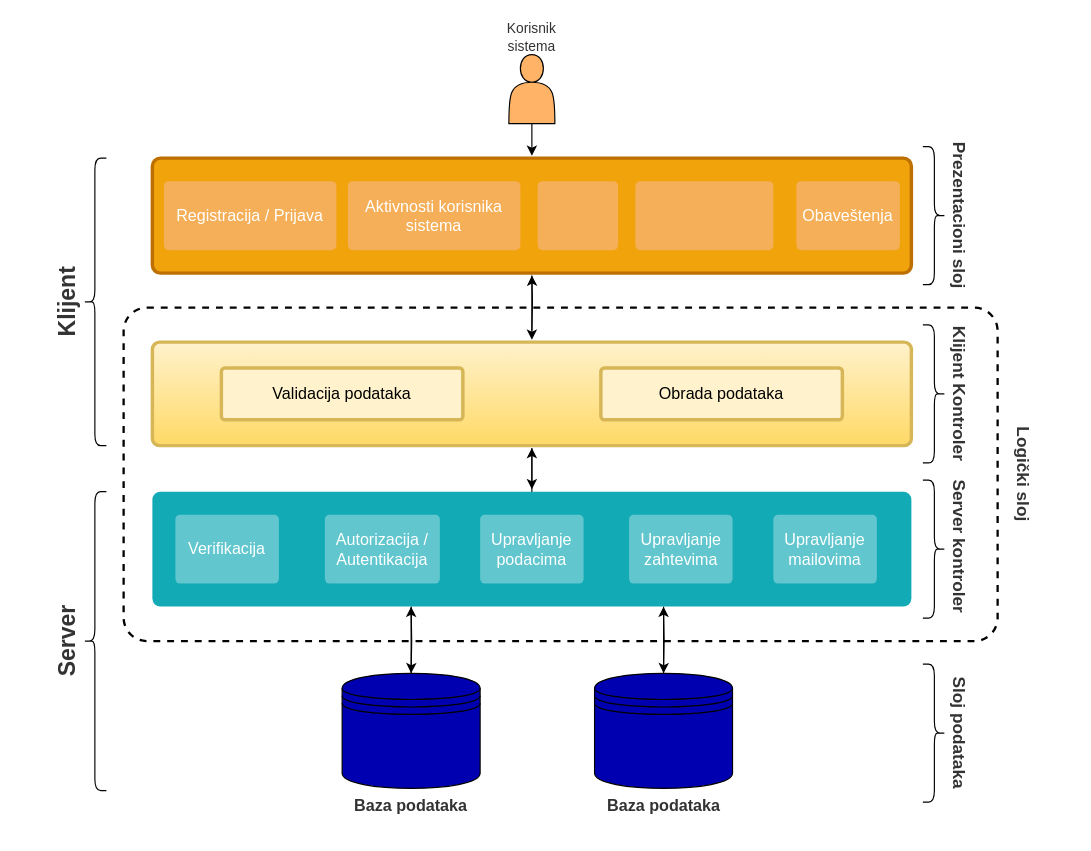
The diagram is 1091 pixels wide and 851 high, and some of its shapes have lost their labels. Each missing label, with the centre of its shape:
Rang liste / Igrači: (704,215)
Turniri: (577,215)
